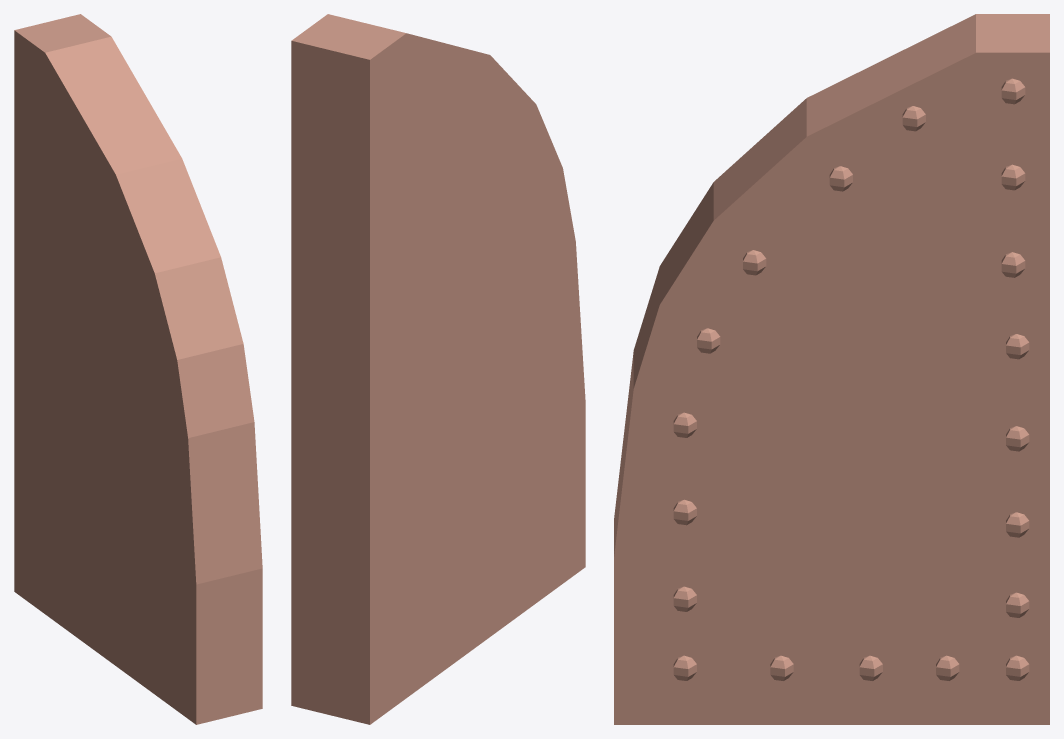
Rendered from door.fbx.
The picture shows the model from 3 angles, left to right: view 1: azimuth 30°, elevation 25°; view 2: azimuth 150°, elevation 25°; view 3: azimuth 270°, elevation 25°; orthographic projection. The views are drawn at different scales.
Visible parts, largest first — view 1: Cube; view 2: Cube; view 3: Cube.
Part boxes in pixels (x1=…): Cube: x1=14, y1=14, x2=262, y2=724; Cube: x1=291, y1=14, x2=585, y2=724; Cube: x1=614, y1=14, x2=1049, y2=724.
Bounding box in the file's own units: 47.85 × 340 × 200.
